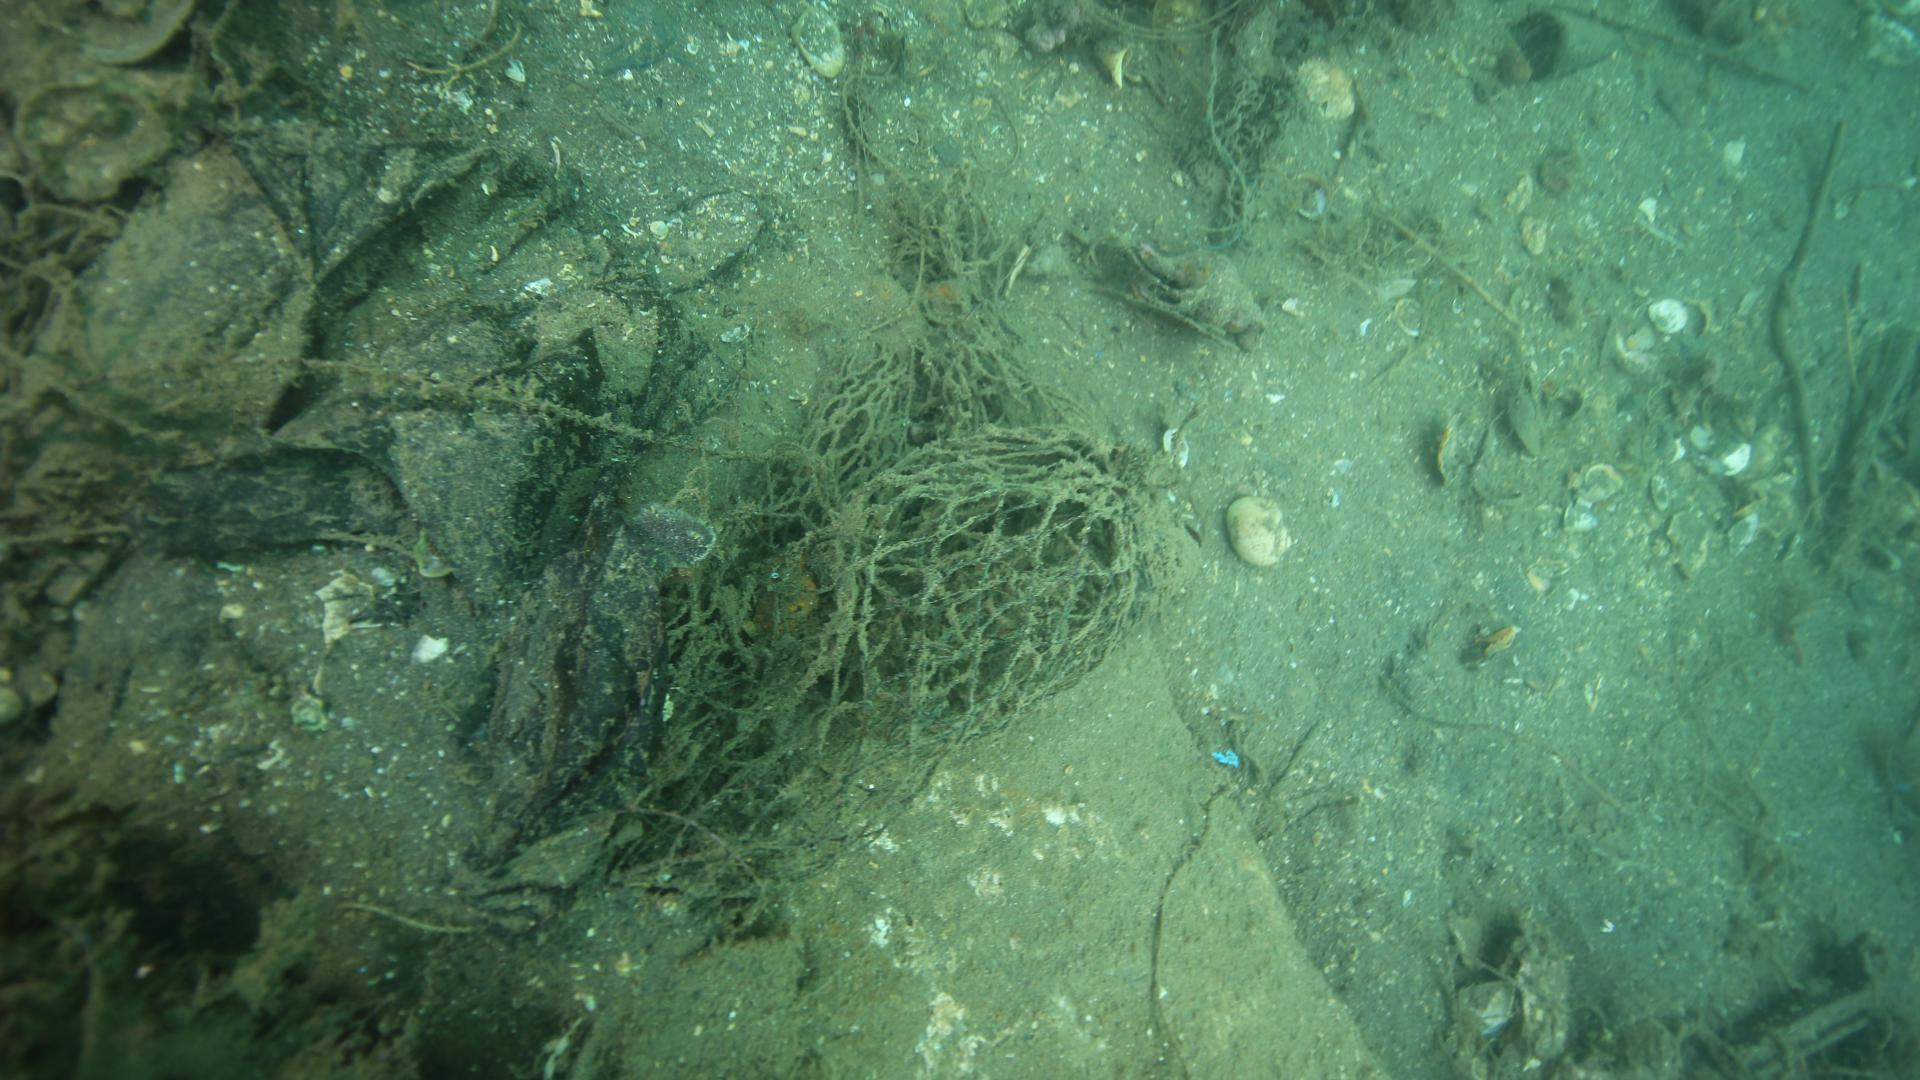fish net: (779, 338, 1139, 894)
